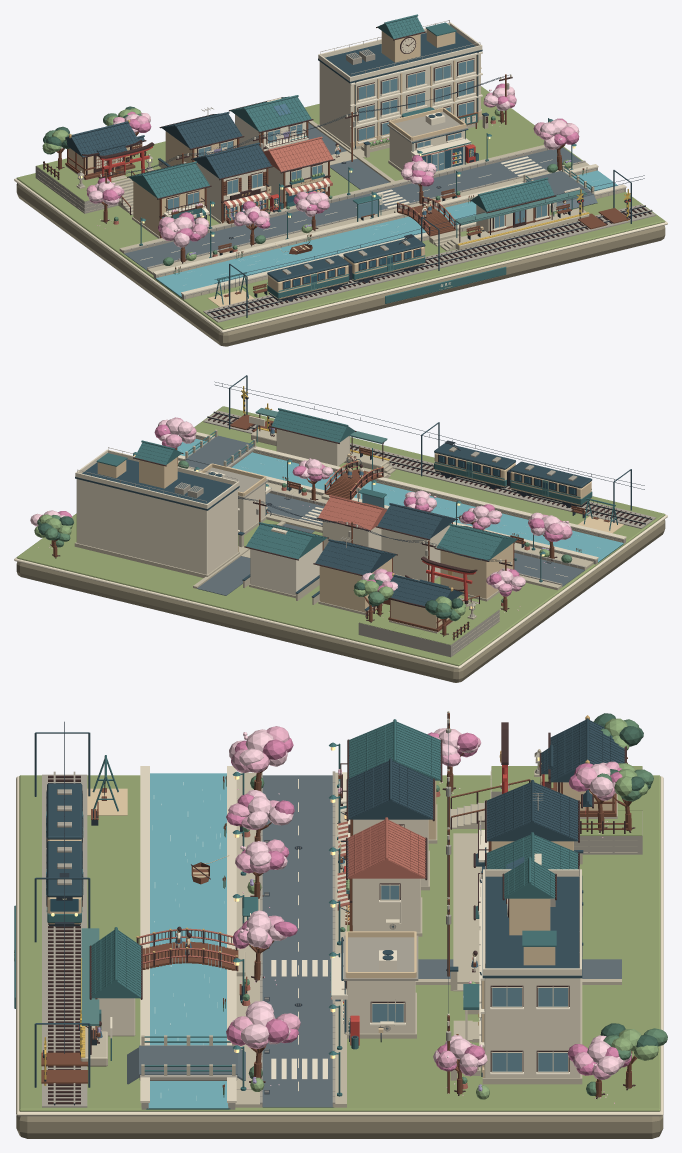
The model's file is demo-town.glb.
3 renders of one model, top to bottom at view 1: azimuth 30°, elevation 25°; view 2: azimuth 150°, elevation 25°; view 3: azimuth 270°, elevation 25°, orthographic. The views are drawn at different scales.
Visible parts, largest first — view 1: 00 • Town foundation / grass, 00 • Town foundation / soil, 01 • Roads and paths / asphalt, 08 • Sakurami academy / ivory, 02 • River and bridges / water, 03 • Station and local railway / stone, 06 Gardens / cherry blossoms and riverside park / pinklight, 01 • Roads and paths / stonewarm, 02 • River and bridges / ivory, 08 • Sakurami academy / roofdark, 08 • Sakurami academy / glass, 00 • Town foundation / ivory (+55 smaller); view 2: 00 • Town foundation / grass, 08 • Sakurami academy / ivory, 00 • Town foundation / soil, 02 • River and bridges / water, 01 • Roads and paths / asphalt, 03 • Station and local railway / stone, 06 Gardens / cherry blossoms and riverside park / pinklight, 00 • Town foundation / ivory, 07 • Miyazaki residence / white, 08 • Sakurami academy / roofdark, 02 • River and bridges / ivory, 03 • Hoshi no Shiori bookshop / ivory (+44 smaller); view 3: 00 • Town foundation / grass, 02 • River and bridges / water, 01 • Roads and paths / asphalt, 00 • Town foundation / soil, 01 • Roads and paths / stonewarm, 08 • Sakurami academy / ivory, 06 Gardens / cherry blossoms and riverside park / pinklight, 00 • Town foundation / ivory, 03 • Station and local railway / stone, 08 • Sakurami academy / roofdark, 02 • River and bridges / ivory, 06 • Fujii residence / roofdark (+49 smaller).
Part boxes in pixels (bbox=[...]): 00 • Town foundation / grass: bbox=[16, 86, 665, 329]; 00 • Town foundation / soil: bbox=[16, 183, 665, 346]; 01 • Roads and paths / asphalt: bbox=[124, 123, 581, 270]; 08 • Sakurami academy / ivory: bbox=[318, 22, 482, 146]; 02 • River and bridges / water: bbox=[156, 170, 617, 296]; 03 • Station and local railway / stone: bbox=[203, 204, 656, 322]; 06 Gardens / cherry blossoms and riverside park / pinklight: bbox=[88, 86, 579, 258]; 01 • Roads and paths / stonewarm: bbox=[119, 120, 589, 275]; 02 • River and bridges / ivory: bbox=[153, 164, 626, 295]; 08 • Sakurami academy / roofdark: bbox=[318, 31, 488, 148]; 08 • Sakurami academy / glass: bbox=[359, 60, 473, 140]; 00 • Town foundation / ivory: bbox=[14, 178, 667, 332]; 00 • Town foundation / grass: bbox=[16, 406, 665, 666]; 08 • Sakurami academy / ivory: bbox=[75, 449, 239, 574]; 00 • Town foundation / soil: bbox=[16, 519, 665, 682]; 02 • River and bridges / water: bbox=[177, 439, 623, 561]; 01 • Roads and paths / asphalt: bbox=[197, 493, 584, 595]; 03 • Station and local railway / stone: bbox=[203, 410, 656, 528]; 06 Gardens / cherry blossoms and riverside park / pinklight: bbox=[30, 418, 570, 612]; 00 • Town foundation / ivory: bbox=[14, 514, 667, 669]; 07 • Miyazaki residence / white: bbox=[250, 542, 322, 595]; 08 • Sakurami academy / roofdark: bbox=[75, 459, 244, 535]; 02 • River and bridges / ivory: bbox=[178, 432, 626, 560]; 03 • Hoshi no Shiori bookshop / ivory: bbox=[381, 523, 451, 581]; 00 • Town foundation / grass: bbox=[19, 775, 660, 1111]; 02 • River and bridges / water: bbox=[148, 773, 228, 1108]; 01 • Roads and paths / asphalt: bbox=[262, 775, 621, 1107]; 00 • Town foundation / soil: bbox=[16, 1115, 663, 1138]; 01 • Roads and paths / stonewarm: bbox=[235, 772, 621, 1107]; 08 • Sakurami academy / ivory: bbox=[465, 869, 581, 1077]; 06 Gardens / cherry blossoms and riverside park / pinklight: bbox=[229, 728, 624, 1098]; 00 • Town foundation / ivory: bbox=[16, 776, 663, 1116]; 03 • Station and local railway / stone: bbox=[42, 771, 87, 1107]; 08 • Sakurami academy / roofdark: bbox=[450, 876, 582, 1076]; 02 • River and bridges / ivory: bbox=[140, 766, 236, 1102]; 06 • Fujii residence / roofdark: bbox=[475, 780, 583, 893].
Bounding box in the file's own units: 58.11 × 15.79 × 47.52.
